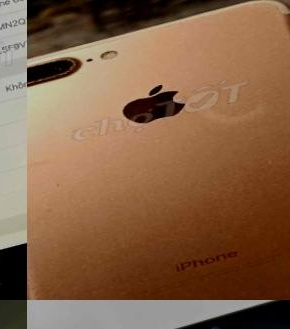scratch: (27, 47, 91, 100), (38, 282, 136, 300), (278, 28, 290, 65)
